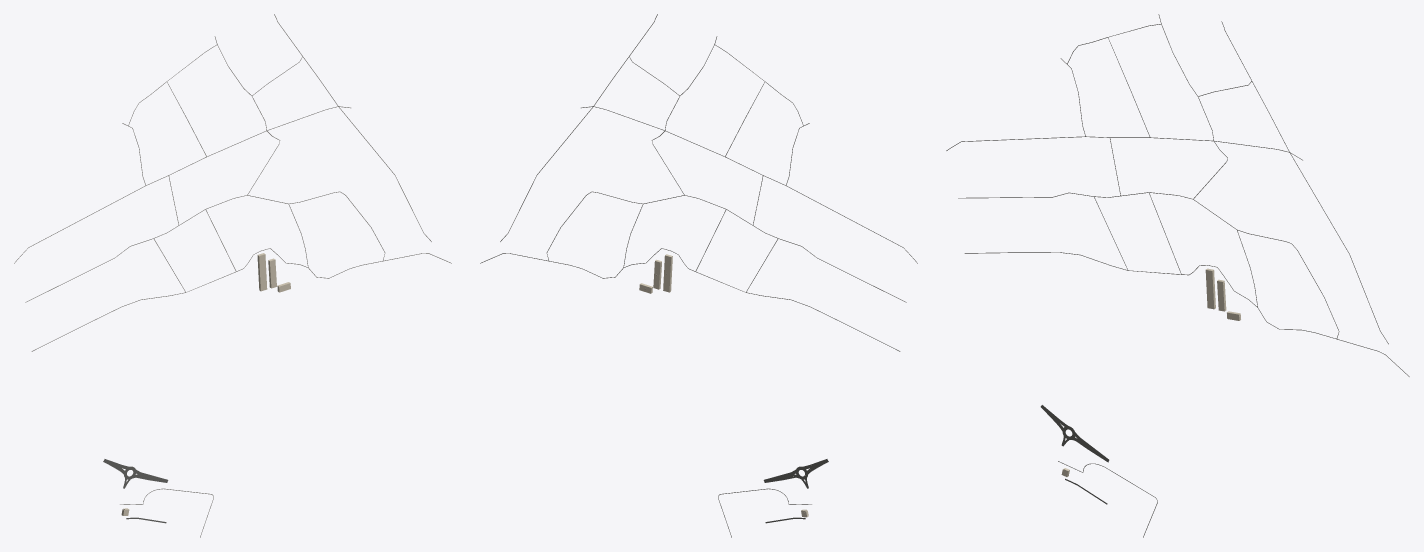
Rendered from historic-palestine-07_29_3494_3239.glb.
3 views of the same model, side by side, from view 1: azimuth 30°, elevation 25°; view 2: azimuth 150°, elevation 25°; view 3: azimuth 330°, elevation 25° (orthographic). The views are drawn at different scales.
Bounding box in the file's own units: 1171 × 1293 × 8.7.
